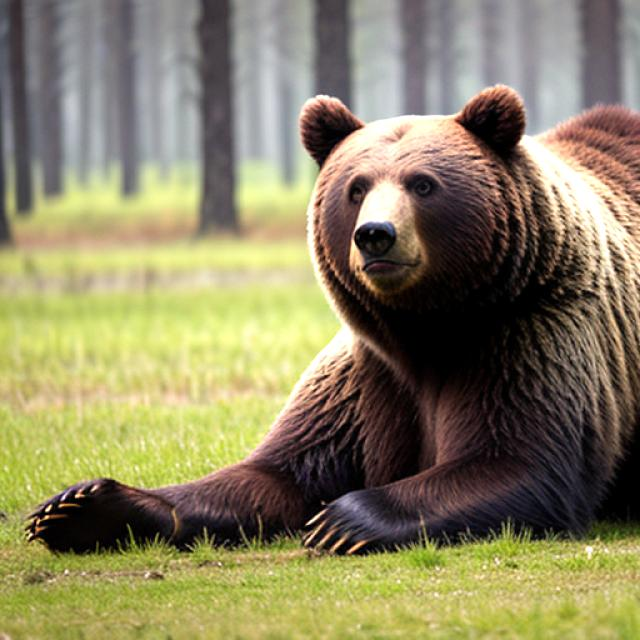bear: (214, 76, 640, 533)
